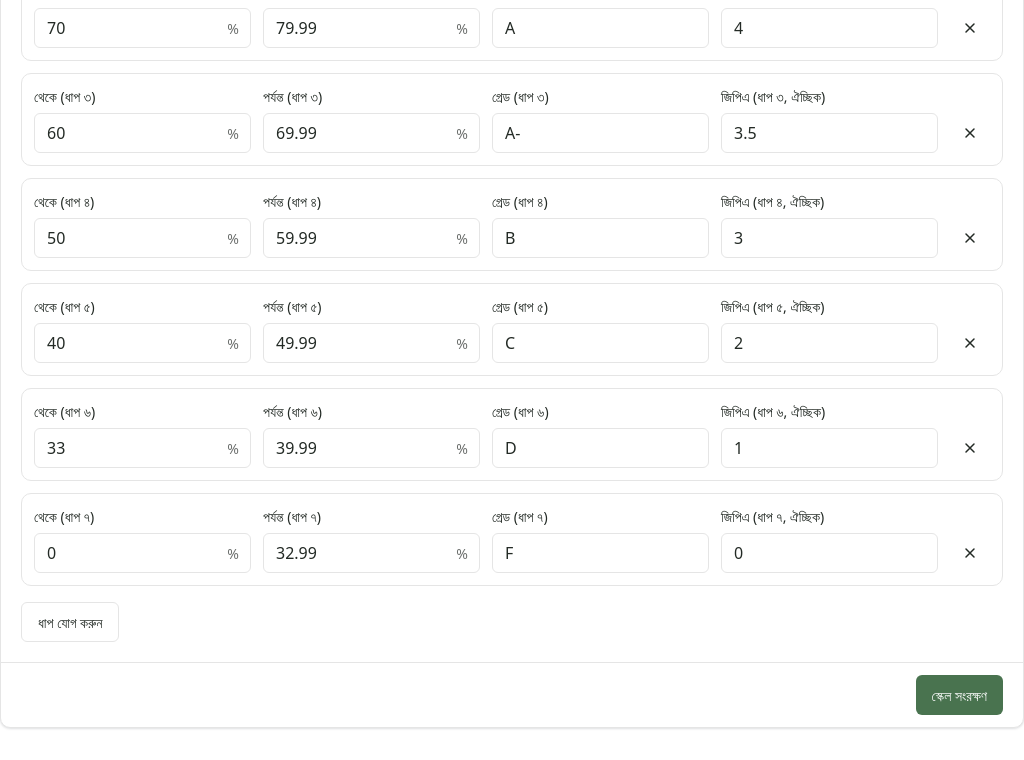
Test: grading scale page › shows the API's check in the reader's language
The width and height of the screenshot is (1024, 760).
(page scrolled)
Click the button "স্কেল সংরক্ষণ": (959, 695) [916,675,1003,715]
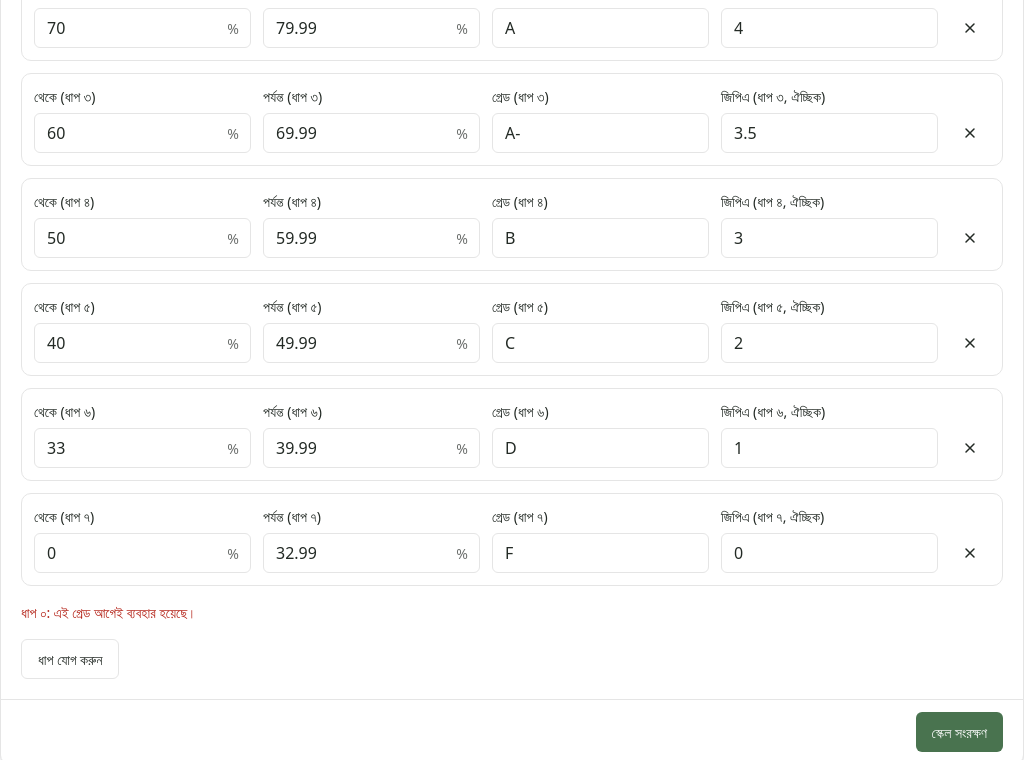
Now the message shows "এই গ্রেড আগেই ব্যবহার হয়েছে", box [21,603,197,622]
